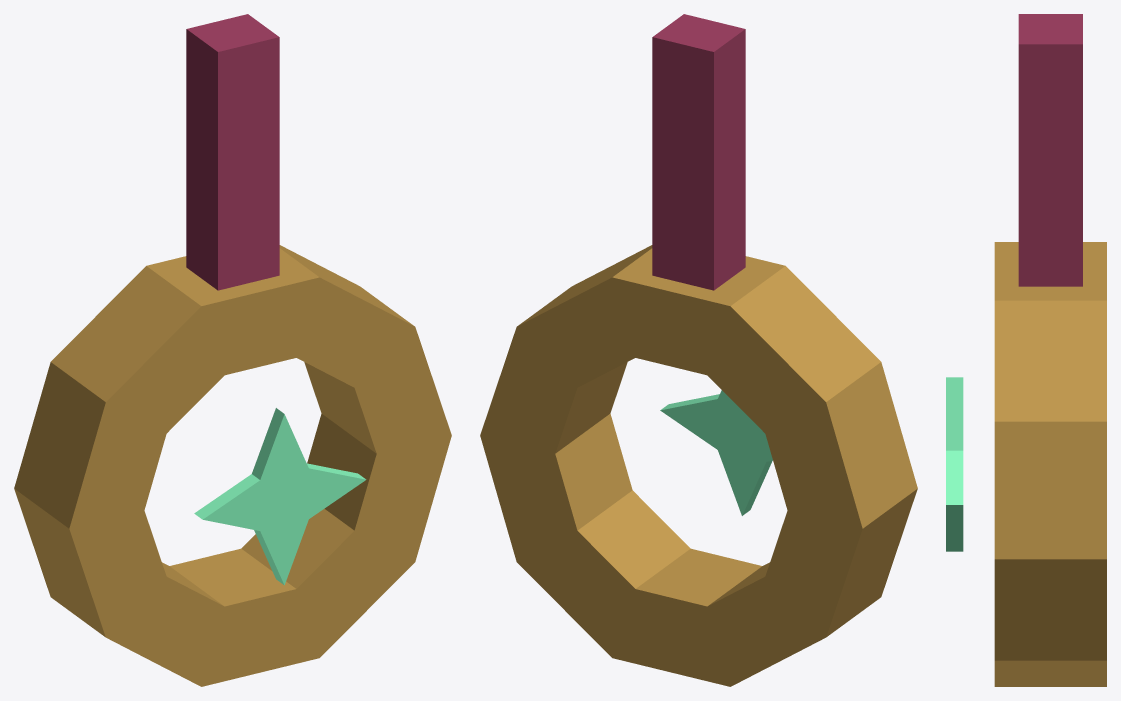
The model's file is moon_ring_pendant.obj.
The picture shows the model from 3 angles, left to right: view 1: azimuth 30°, elevation 25°; view 2: azimuth 150°, elevation 25°; view 3: azimuth 270°, elevation 25°; orthographic projection.
Parts seen in each view (by area): view 1: moon_ring, moon_cord, moon_cord_edge, moon_glint, moon_glint_edge; view 2: moon_ring, moon_cord, moon_cord_edge, moon_glint; view 3: moon_ring, moon_cord_edge, moon_glint_edge.
Part boxes in pixels (bbox=[...]): moon_ring: bbox=[14, 245, 451, 686]; moon_cord: bbox=[218, 37, 279, 290]; moon_cord_edge: bbox=[186, 14, 278, 290]; moon_glint: bbox=[203, 414, 365, 584]; moon_glint_edge: bbox=[194, 408, 365, 584]; moon_ring: bbox=[480, 245, 917, 686]; moon_cord: bbox=[652, 37, 713, 290]; moon_cord_edge: bbox=[653, 14, 745, 290]; moon_glint: bbox=[660, 390, 772, 515]; moon_ring: bbox=[994, 242, 1106, 686]; moon_cord_edge: bbox=[1018, 14, 1082, 286]; moon_glint_edge: bbox=[946, 377, 963, 551].
Size of the model in its own units: 0.28 by 0.4331 by 0.1004.
